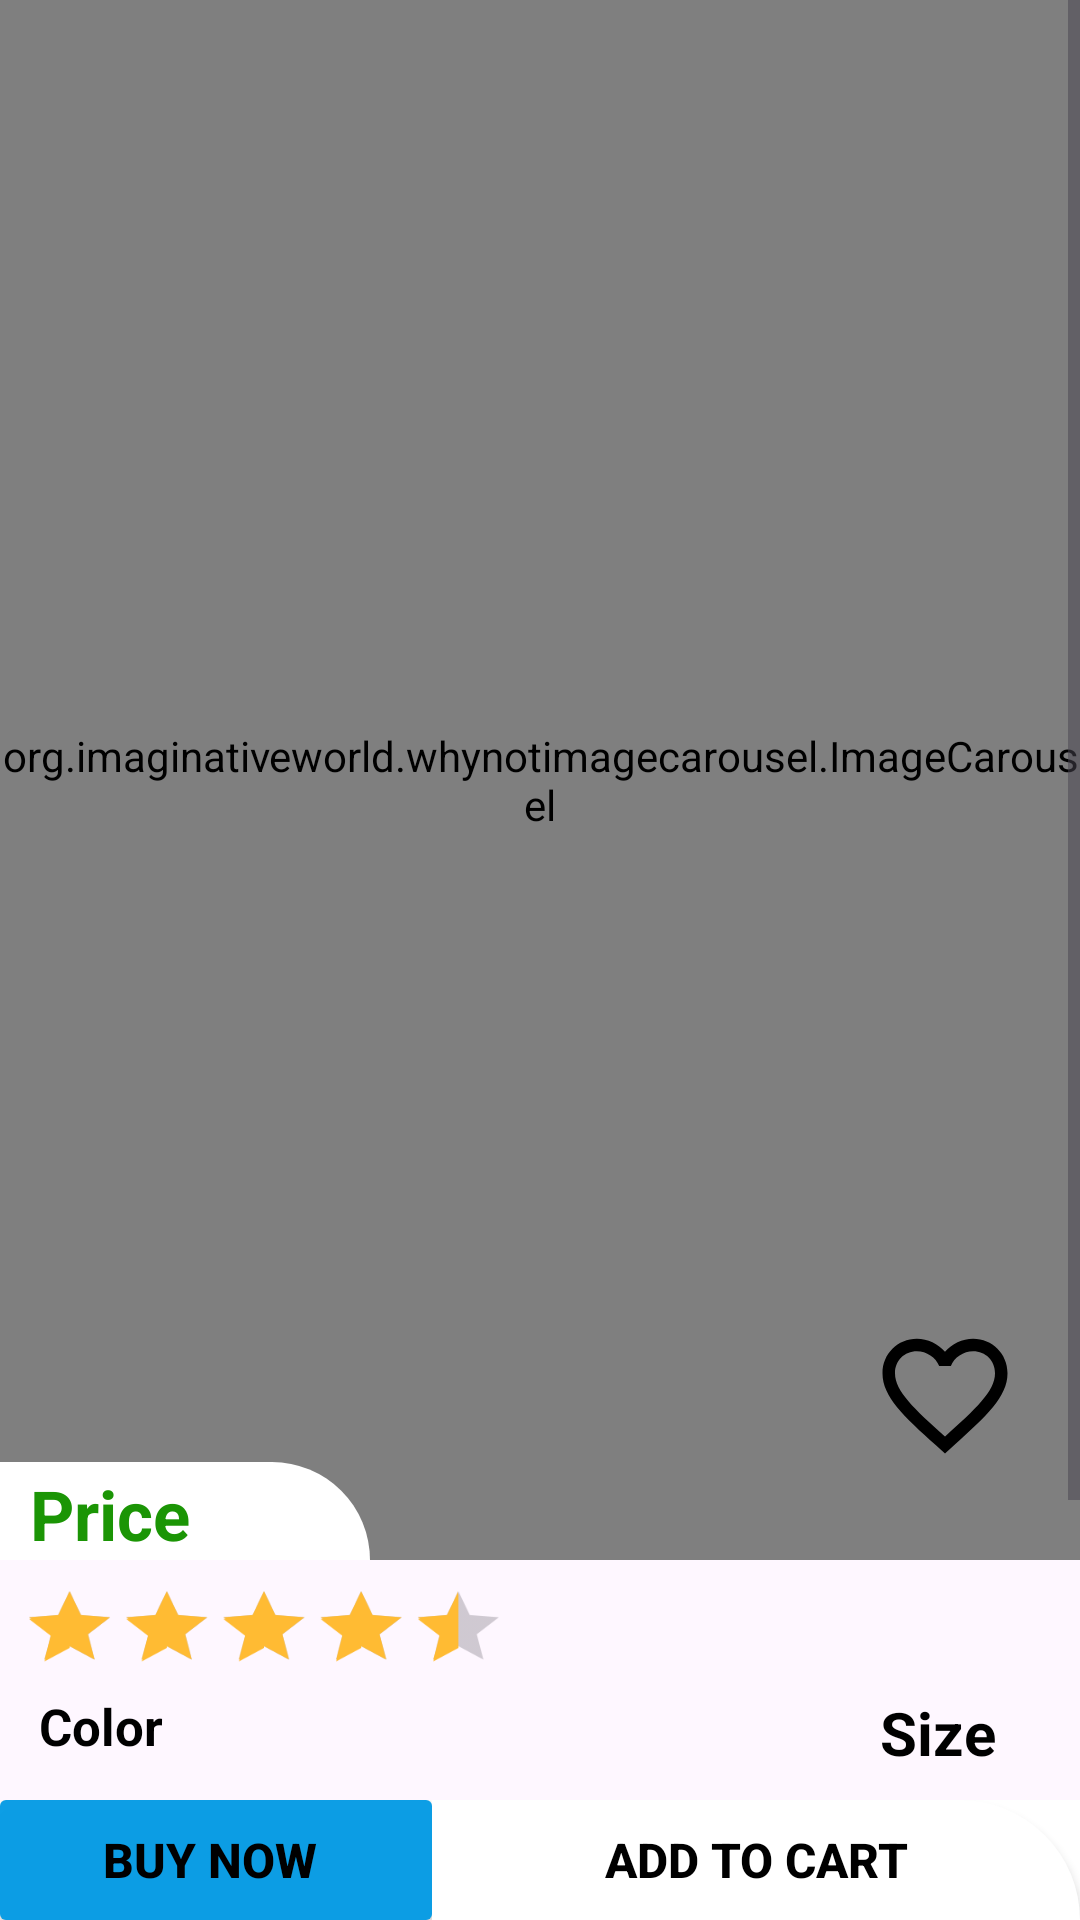

Locate icon controls on the screen. Image size 1080 x 1920, boxes as (x1, y1, x2, y2).
Wishlist: (882, 1338, 1008, 1453)
